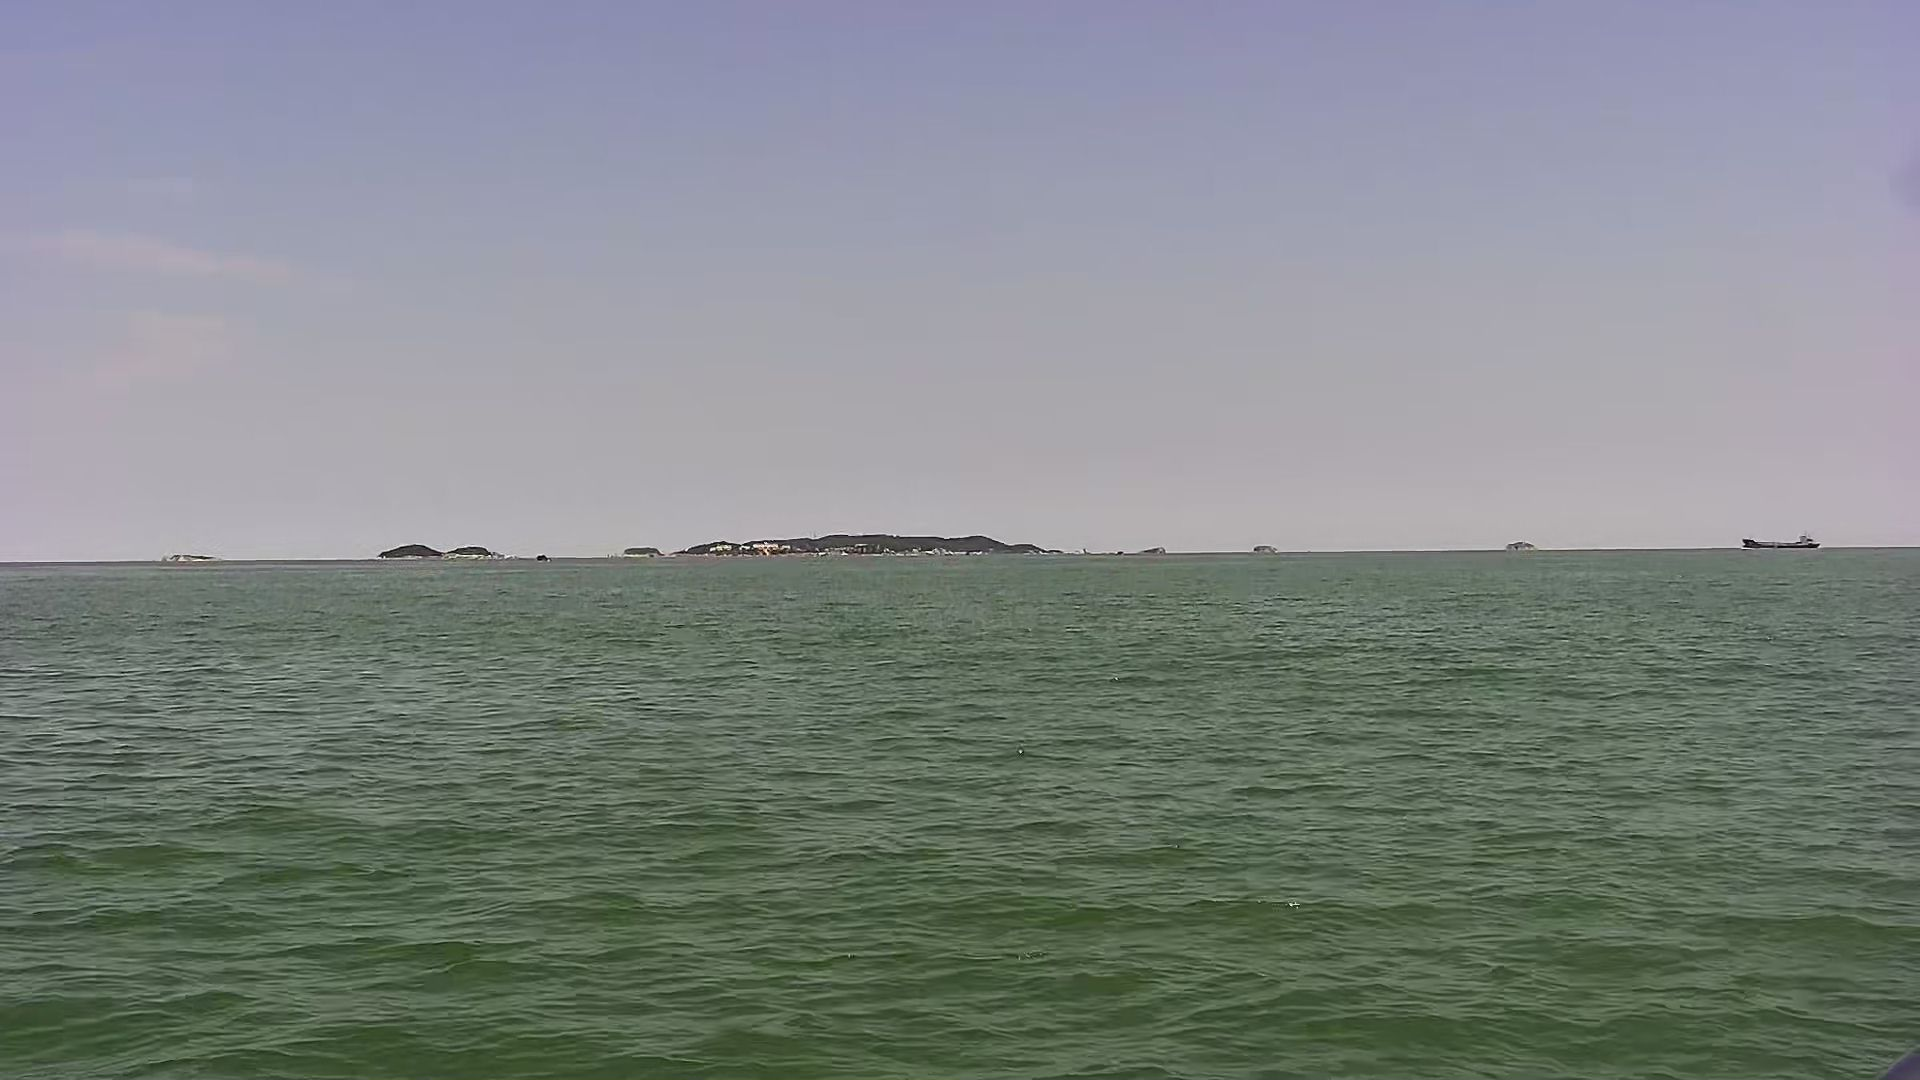rock: (612, 531, 1171, 558), (369, 541, 517, 560), (1506, 538, 1538, 554), (1249, 542, 1280, 556)
ship: (1735, 535, 1822, 553)
